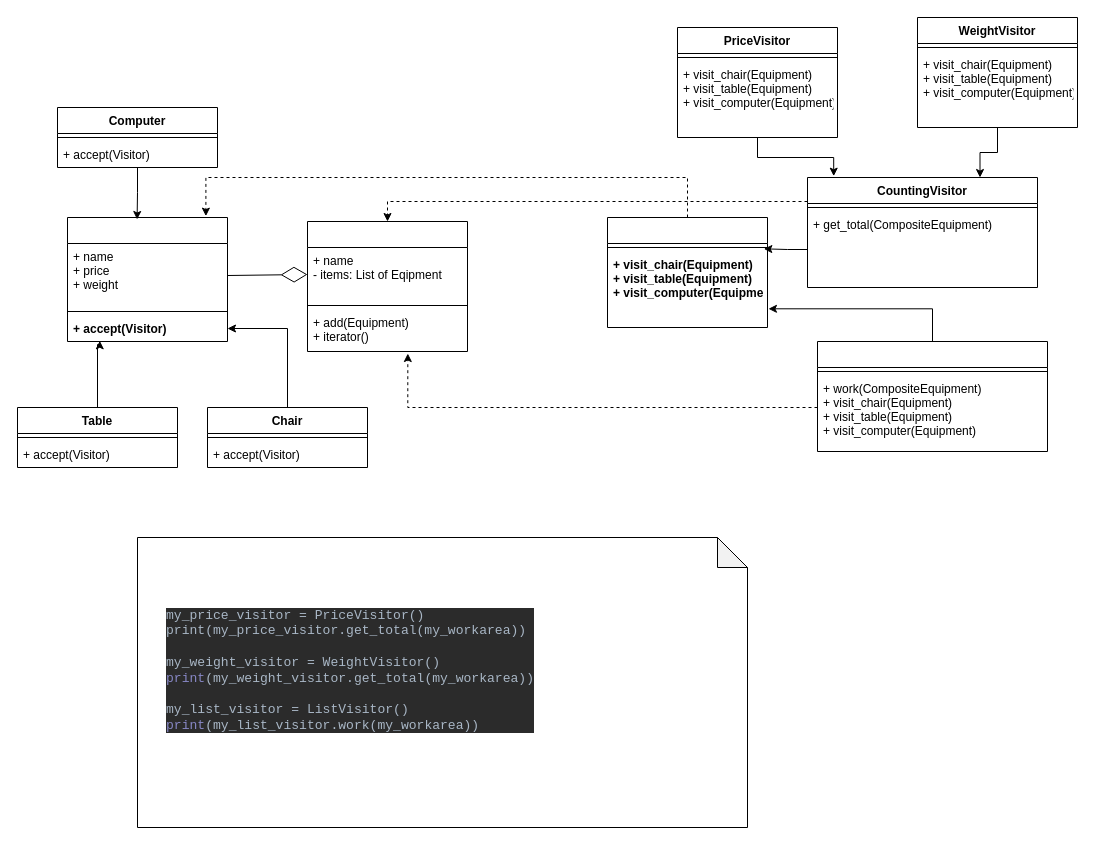
Image size: 1095x845. Some labels were removed from this diagram. Each missing label, with the box of its shape:
CompositeEquipment: (306, 220, 468, 352)
Equipment: (66, 216, 228, 342)
ListVisitor: (816, 340, 1048, 452)
Visitor: (606, 216, 768, 328)
